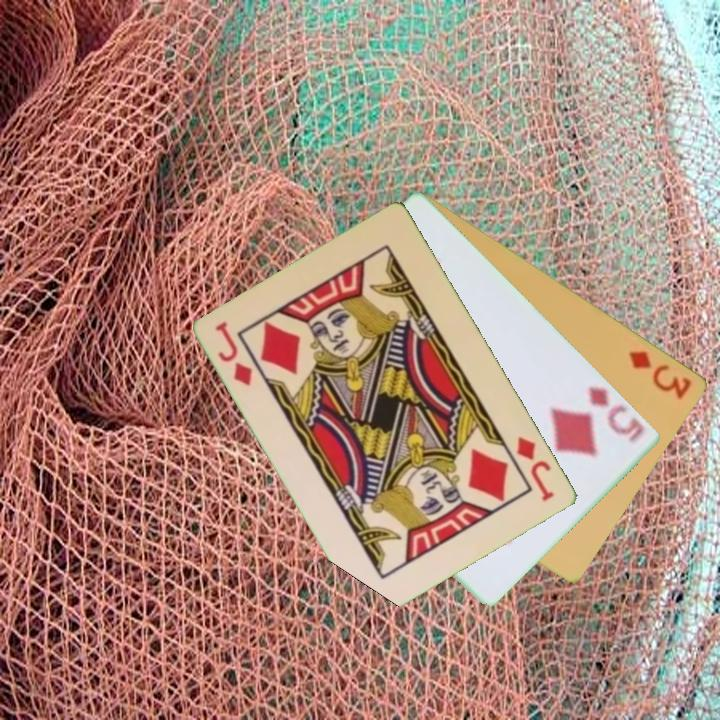3d: (625, 346, 695, 402)
5d: (586, 382, 648, 445)
Jd: (513, 433, 558, 505), (212, 317, 256, 389)
